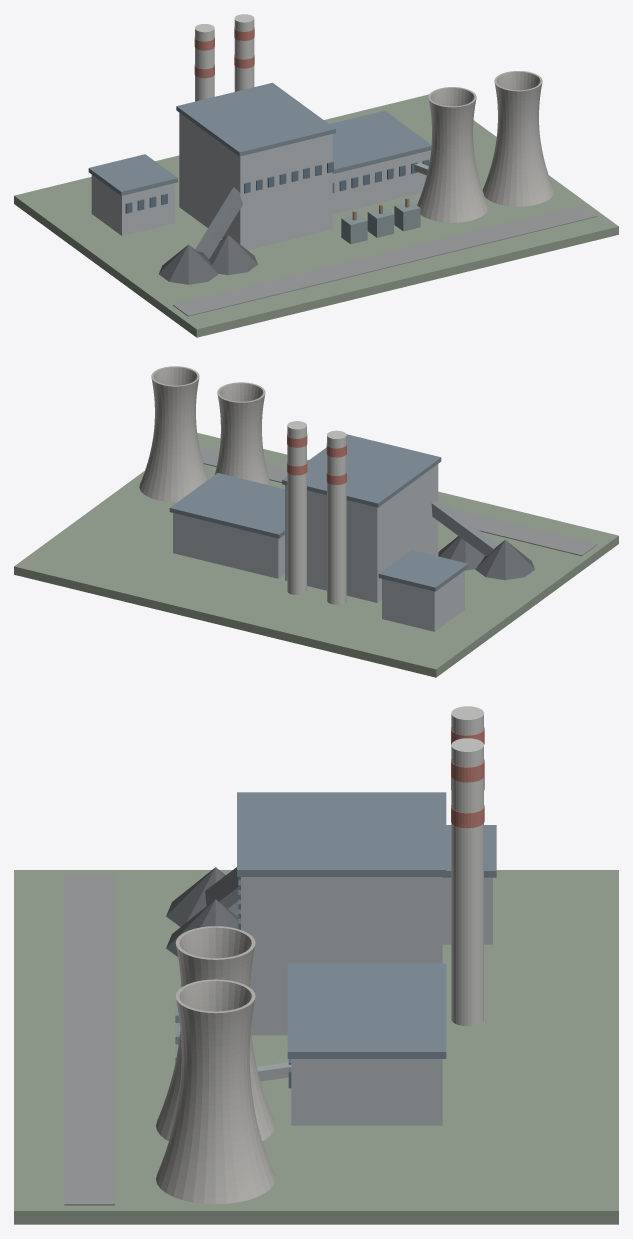
File: thermal-plant.glb
3 renders of one model, top to bottom at view 1: azimuth 30°, elevation 25°; view 2: azimuth 150°, elevation 25°; view 3: azimuth 270°, elevation 25°, orthographic. The views are drawn at different scales.
Parts seen in each view (by area): view 1: Body; view 2: Body; view 3: Body.
Boxes of the visible parts, box(x1,y1,x2,y2) form: Body: box(14, 14, 618, 337); Body: box(14, 366, 618, 677); Body: box(14, 706, 618, 1224).
Size of the model in its own units: 32 by 12.6 by 24.
